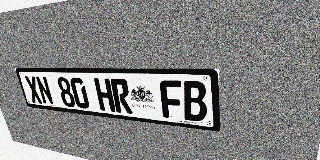0: (69, 77, 90, 109)
8: (56, 77, 76, 108)
B: (182, 81, 207, 122)
F: (159, 80, 184, 120)
H: (94, 78, 116, 112)
N: (35, 76, 54, 105)
R: (110, 79, 133, 114)
X: (24, 76, 43, 104)
